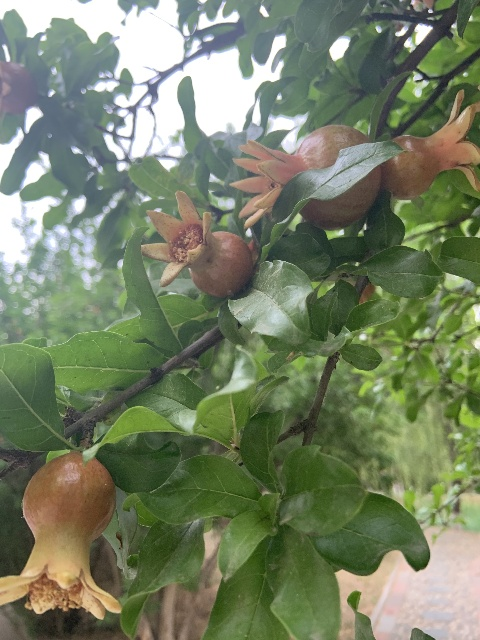early-fruit: (0, 450, 122, 620), (229, 123, 380, 230), (140, 189, 255, 296), (381, 88, 480, 199)
